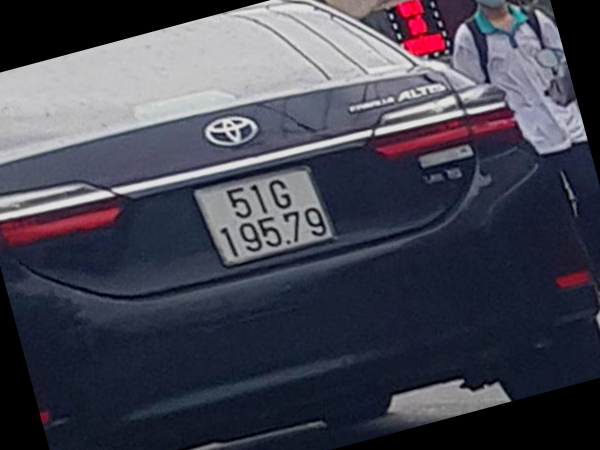lisence: (196, 161, 336, 269)
